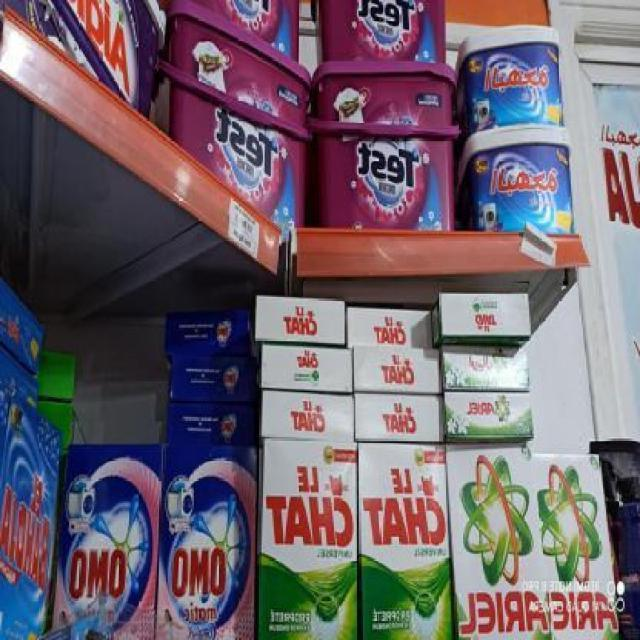Detergent: (454, 441, 553, 640), (548, 447, 623, 640), (440, 332, 532, 394), (441, 386, 527, 443)
